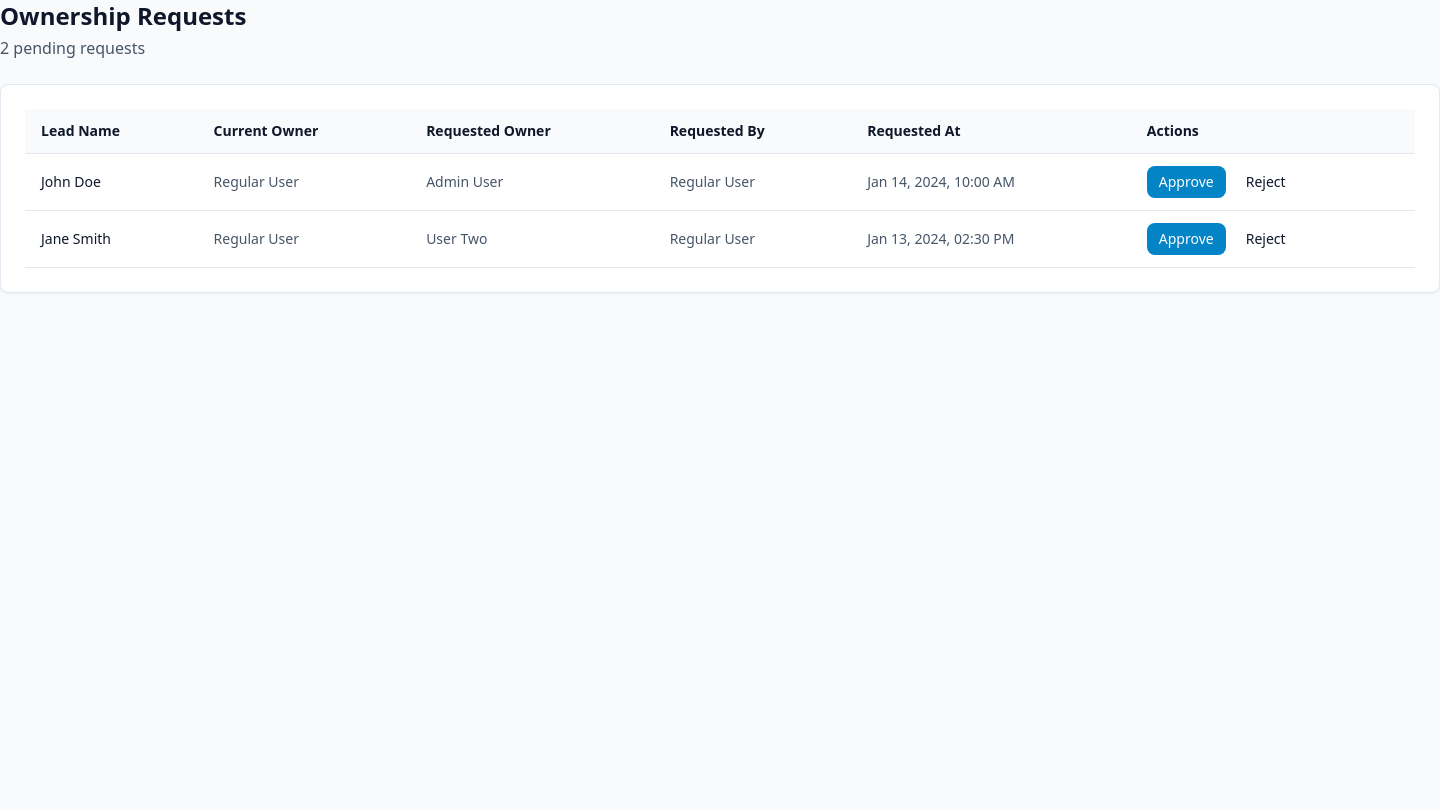
Test: OwnershipRequests › Approve Flow › shows success alert after approval
Expected: the text "John Doe" is shown, [41,172,101,191]
What coordinates should you click on to do the following:
click the button "Approve" in the row of "John Doe"
I would click on:
 (1186, 182)
Its box is [1147,166,1226,198].
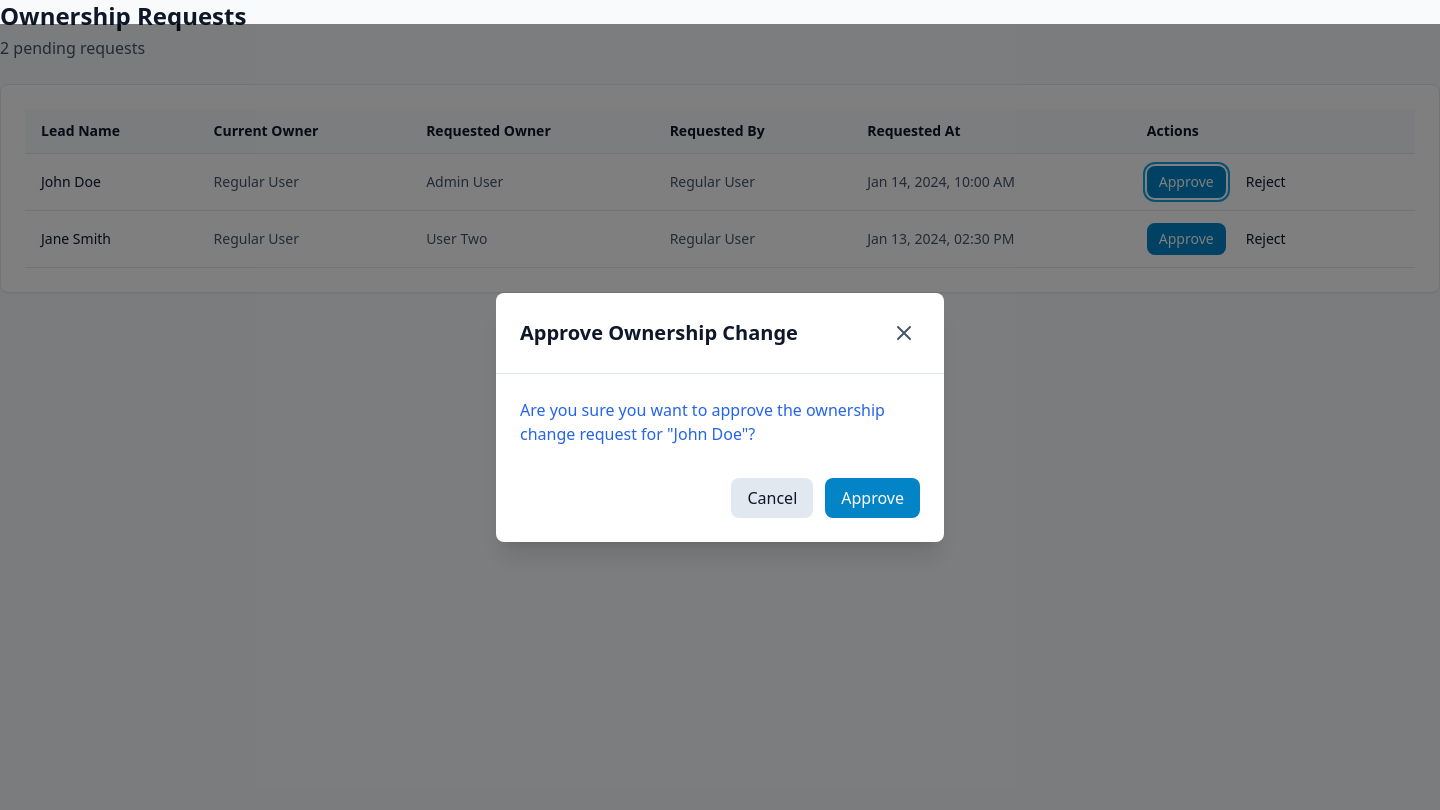
Now the heading "Approve Ownership Change" is shown, box [520,318,798,346]
// Find the confirm button in the modal (should be the last one)
What coordinates should you click on to do the following:
click the button "Approve"
I would click on:
 (873, 498)
Its box is [825,478,920,518].
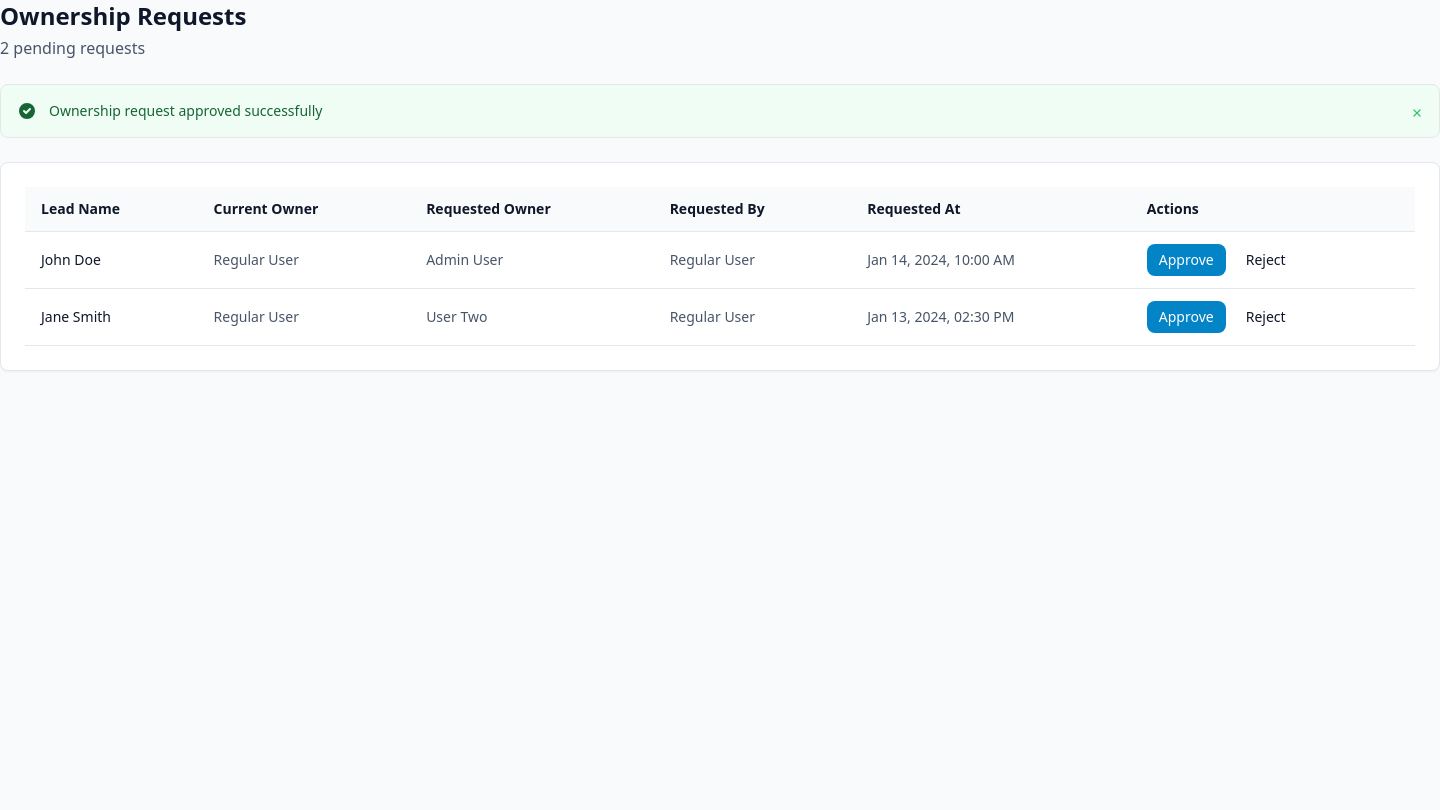
Now the text "Ownership request approved successfully" is shown, box [49,101,322,120]
